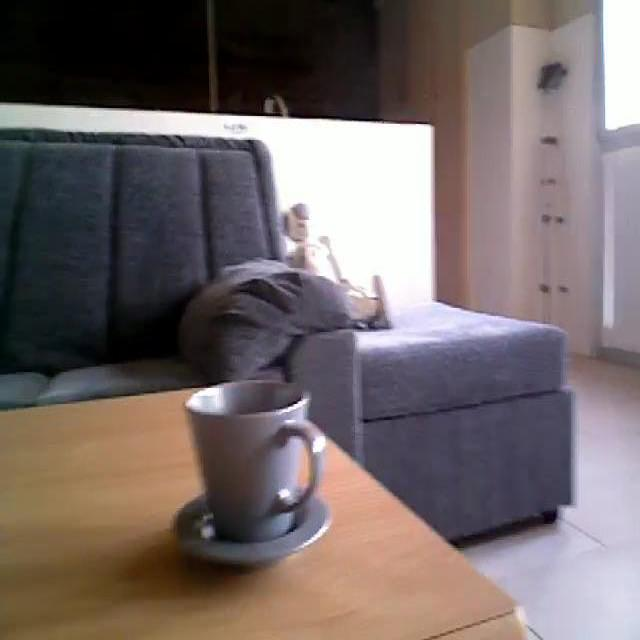cup: (182, 380, 318, 567)
